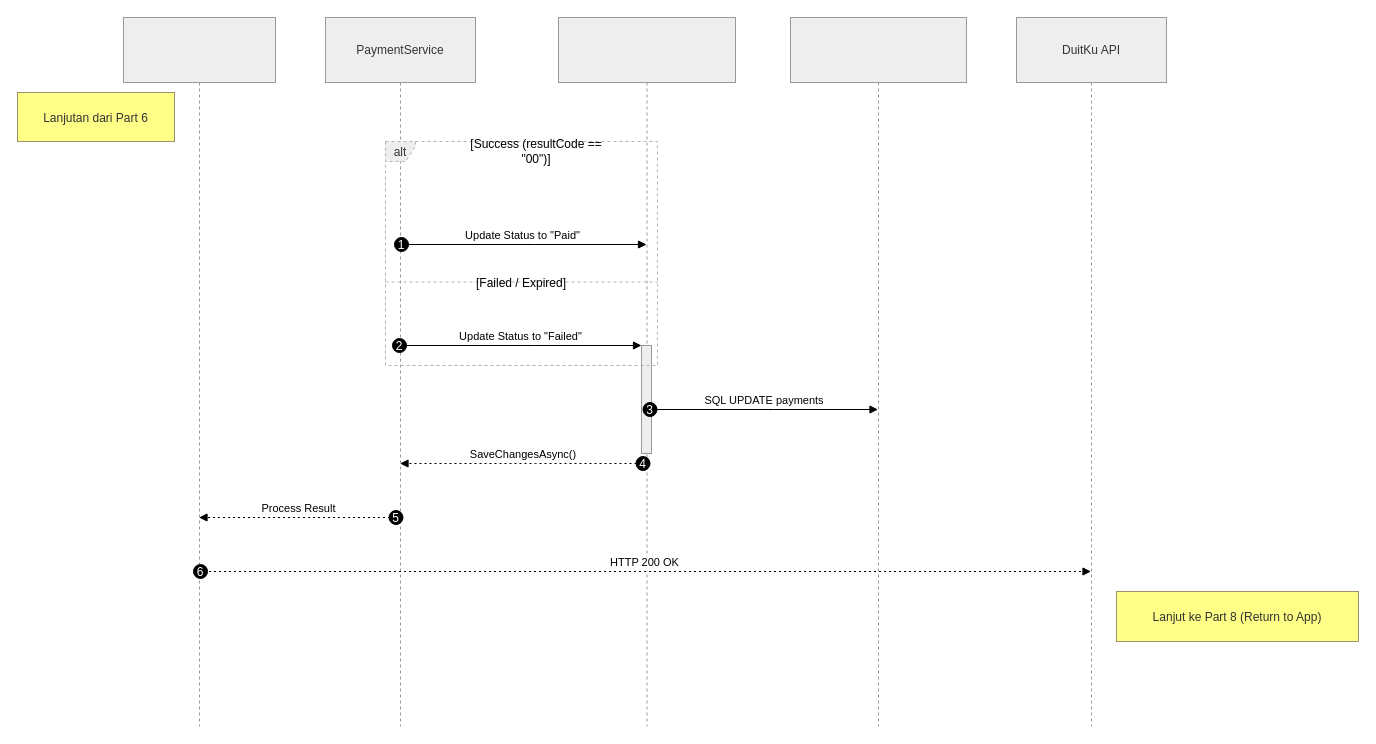
This 1376x744 diagram has some shape labels left out. Here are the shapes that lost their labels. From the top down, the box of each, then its label:
(122, 16, 276, 726): PaymentController
(558, 16, 736, 726): ApplicationDbContext
(790, 16, 966, 726): Database (SQL Server)
